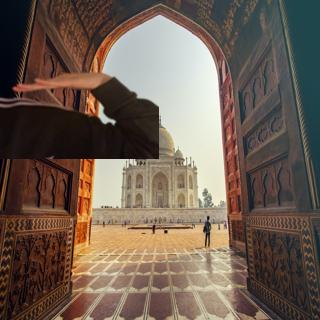Wait: (9, 66, 111, 95)
